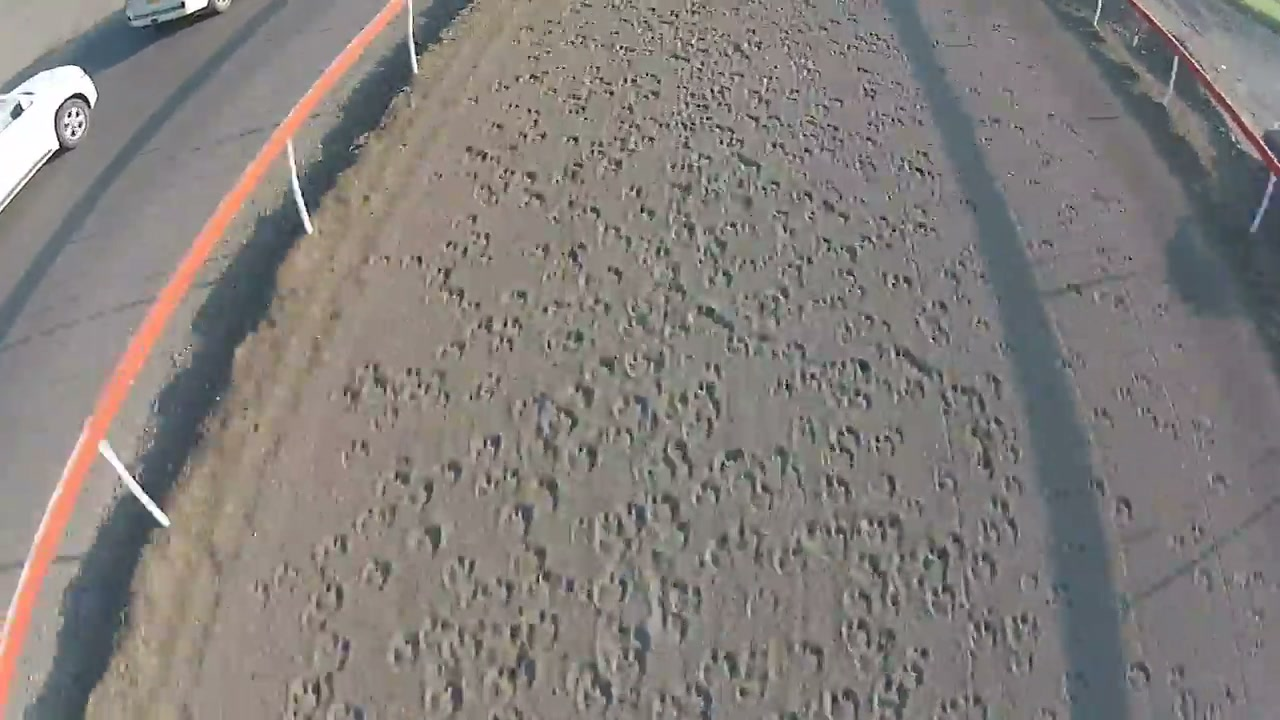animal_footprint: (286, 46, 917, 718), (789, 293, 1008, 557)
